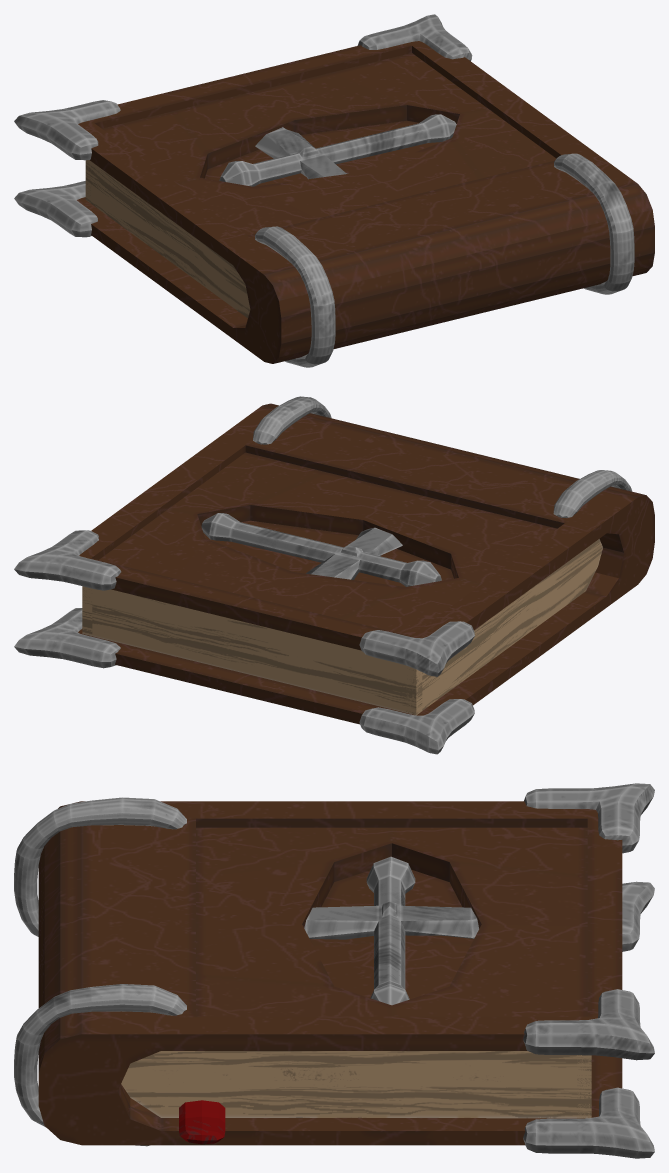
The model's file is Livro_Sagrado.fbx.
3 views of the same model, one above another, from view 1: azimuth 30°, elevation 25°; view 2: azimuth 150°, elevation 25°; view 3: azimuth 270°, elevation 25° (orthographic). The views are drawn at different scales.
Parts seen in each view (by area): view 1: LivroSagrado; view 2: LivroSagrado; view 3: LivroSagrado.
Boxes of the visible parts, x1,y1,x2,y2 form: LivroSagrado: (14, 14, 654, 367); LivroSagrado: (14, 396, 654, 754); LivroSagrado: (14, 783, 654, 1158).
Size of the model in its own units: 42.45 by 11.94 by 43.67.
Materials: 6 (6 with a texture image).
